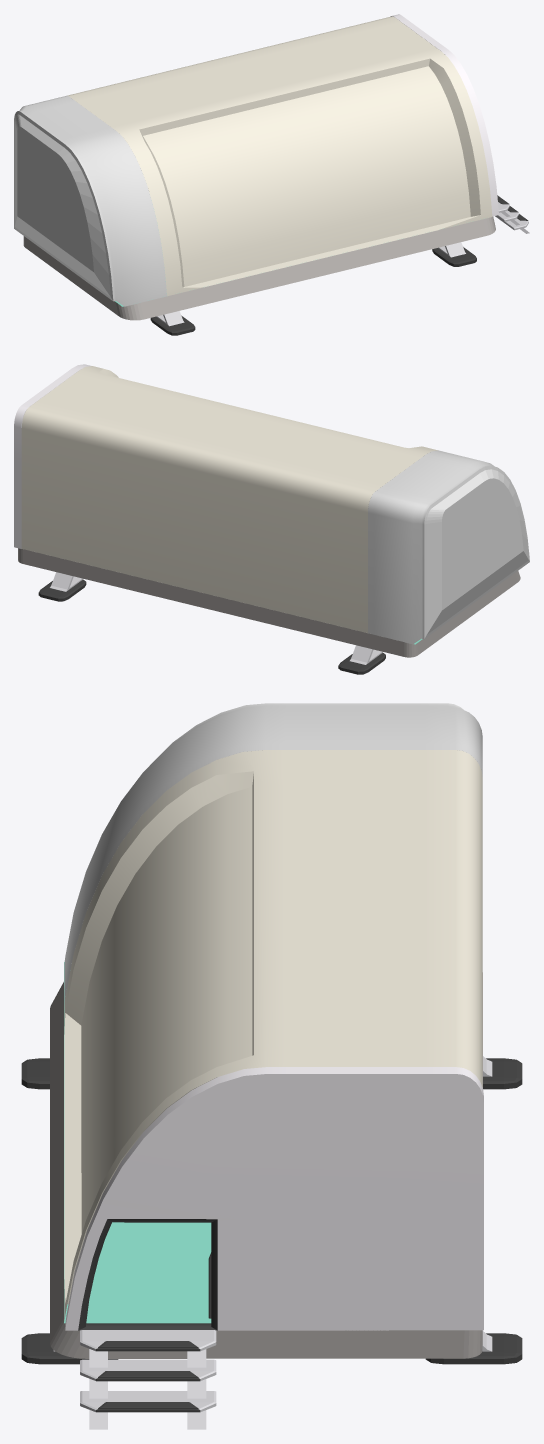
3 renders of one model, top to bottom at view 1: azimuth 30°, elevation 25°; view 2: azimuth 150°, elevation 25°; view 3: azimuth 270°, elevation 25°, orthographic. The views are drawn at different scales.
Visible parts, largest first — view 1: Middle, LiftSide, UnderSide, DoorSide, point1, point3; view 2: Middle, LiftSide, UnderSide, DoorSide, point4, point2, LeftLeg, RightLeg; view 3: Middle, DoorSide, LiftSide, UnderSide, ground, ladder1, ladder1.001, ladder1.002, point4, point3, point2, point1.
Boxes of the visible parts, bbox=[...] form: Middle: bbox=[67, 16, 492, 296]; LiftSide: bbox=[14, 95, 166, 306]; UnderSide: bbox=[23, 216, 495, 320]; DoorSide: bbox=[390, 14, 498, 216]; point1: bbox=[150, 315, 195, 335]; point3: bbox=[432, 247, 476, 266]; Middle: bbox=[21, 366, 437, 632]; LiftSide: bbox=[368, 450, 529, 644]; UnderSide: bbox=[18, 548, 520, 657]; DoorSide: bbox=[14, 364, 90, 548]; point4: bbox=[38, 579, 86, 601]; point2: bbox=[338, 653, 385, 674]; LeftLeg: bbox=[350, 645, 383, 664]; RightLeg: bbox=[50, 572, 83, 591]; Middle: bbox=[64, 750, 482, 1321]; DoorSide: bbox=[65, 1067, 483, 1330]; LiftSide: bbox=[64, 703, 482, 1003]; UnderSide: bbox=[50, 972, 482, 1358]; ground: bbox=[64, 962, 211, 1323]; ladder1: bbox=[80, 1330, 216, 1367]; ladder1.001: bbox=[80, 1359, 216, 1398]; ladder1.002: bbox=[80, 1391, 216, 1429]; point4: bbox=[425, 1333, 522, 1364]; point3: bbox=[21, 1333, 118, 1364]; point2: bbox=[483, 1058, 522, 1089]; point1: bbox=[21, 1058, 49, 1089].
Size of the model in its own units: 8098 by 2908 by 4104.
